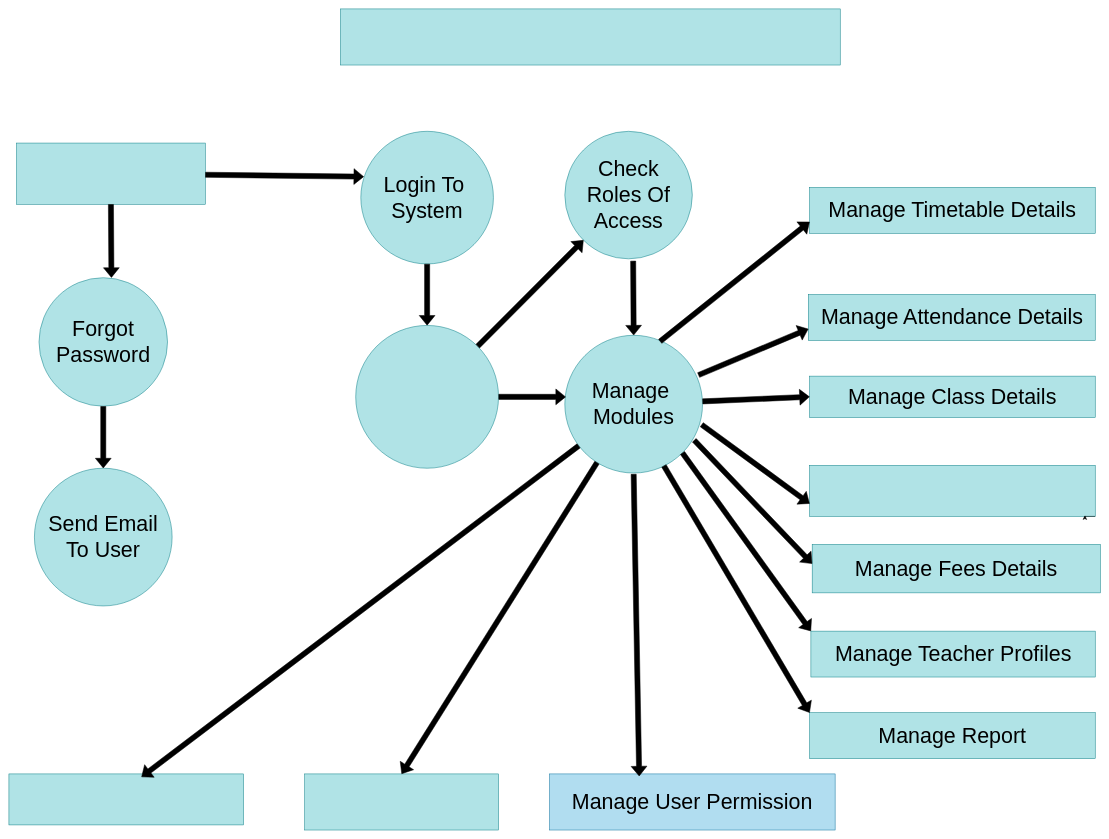
Image size: 1109x839. Some labels were removed from this diagram. The centre of each missing label's shape, as x and y in pixels:
Admin: point (110, 173)
Check Credentials: point (427, 396)
Manage Roles of Users: point (401, 801)
Manage Student Details: point (952, 490)
Manage System Admins: point (126, 799)
Student Information System: point (590, 36)
